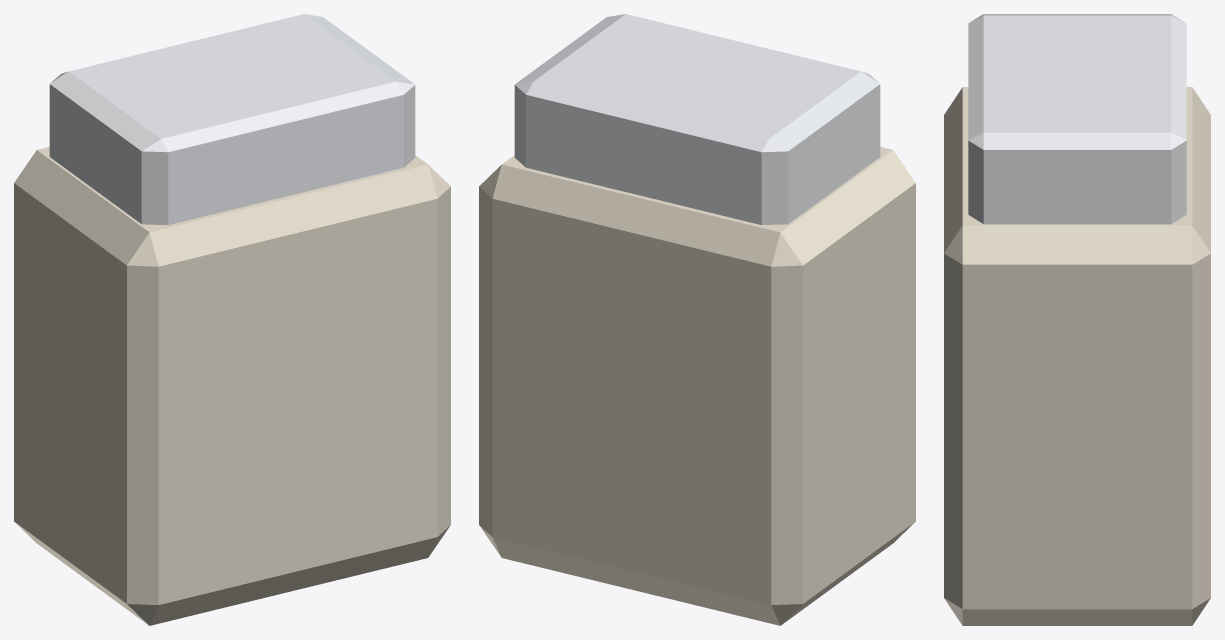
The model's file is b17_external_frame_hiking_pack.glb.
The picture shows the model from 3 angles, left to right: view 1: azimuth 30°, elevation 25°; view 2: azimuth 150°, elevation 25°; view 3: azimuth 270°, elevation 25°; orthographic projection.
Parts seen in each view (by area): view 1: b17_external_frame_hiking_pack; view 2: b17_external_frame_hiking_pack; view 3: b17_external_frame_hiking_pack.
Part boxes in pixels (left/top/right/bottom): b17_external_frame_hiking_pack: left=14, top=14, right=450, bottom=625; b17_external_frame_hiking_pack: left=479, top=14, right=915, bottom=625; b17_external_frame_hiking_pack: left=944, top=14, right=1210, bottom=625.
Bounding box in the file's own units: 0.555 × 0.776 × 0.389.
